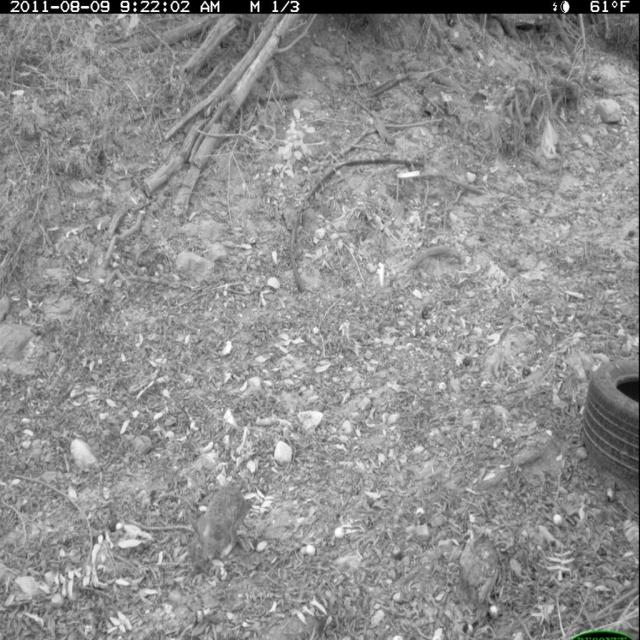rabbit: (184, 478, 255, 578)
